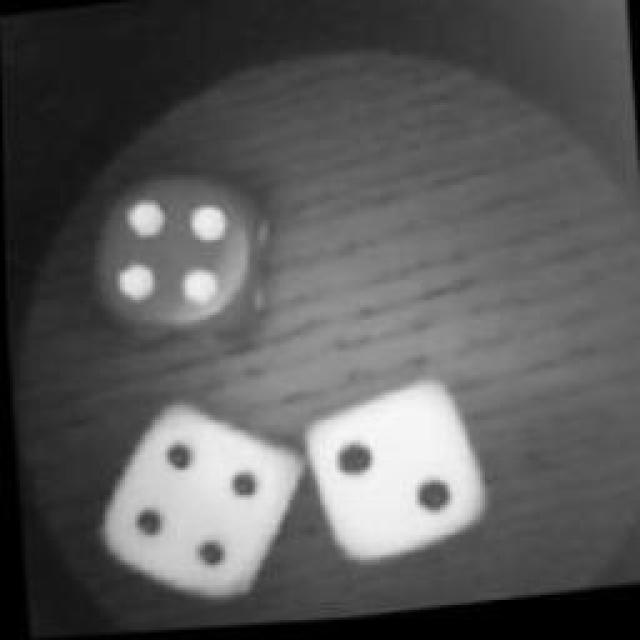dice_2: (294, 371, 508, 581)
dice_4: (78, 390, 312, 625), (77, 159, 285, 366)
